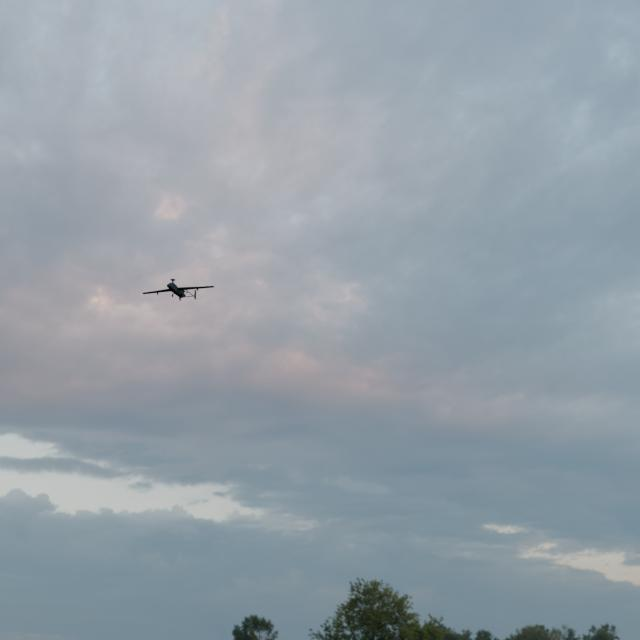Airaplan: (142, 279, 215, 302)
